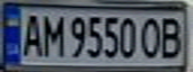0: (118, 15, 139, 60)
5: (84, 12, 106, 60), (103, 13, 121, 60)
9: (63, 12, 87, 59)
A: (18, 10, 45, 57)
B: (157, 13, 187, 60)
M: (39, 11, 66, 57)
O: (139, 15, 166, 61)
